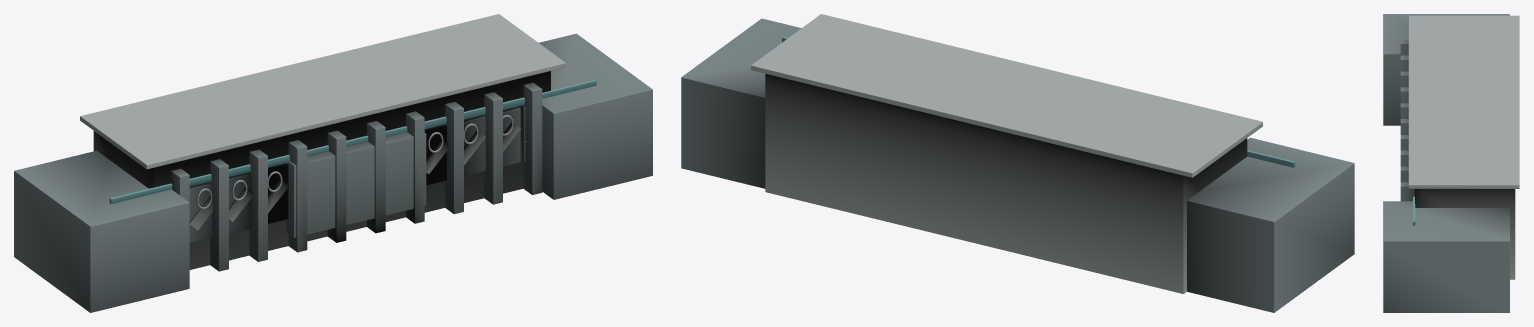
The model's file is temple-core-lod0.glb.
3 renders of one model, left to right at view 1: azimuth 30°, elevation 25°; view 2: azimuth 150°, elevation 25°; view 3: azimuth 270°, elevation 25°, orthographic. The views are drawn at different scales.
Visible parts, largest first — view 1: temple_coping.001, temple_west_wing.001, temple_east_wing.001, temple_main_mass.001, entrance_block.001, mosaic_band.001, facade_buttress_09_detail.001, facade_buttress_08_detail.001, facade_buttress_07_detail.001, facade_buttress_02_detail.001, facade_buttress_01_detail.001, facade_buttress_03_detail.001 (+10 smaller); view 2: temple_main_mass.001, temple_coping.001, temple_west_wing.001, temple_east_wing.001; view 3: temple_coping.001, temple_east_wing.001, temple_west_wing.001, temple_main_mass.001, facade_buttress_09_detail.001, facade_buttress_01_detail.001, facade_buttress_03_detail.001, facade_buttress_07_detail.001, facade_buttress_02_detail.001, facade_buttress_08_detail.001, facade_buttress_00_detail.001, facade_buttress_04_detail.001 (+2 smaller).
Boxes of the visible parts, bbox=[...] form: temple_coping.001: bbox=[80, 14, 565, 169]; temple_west_wing.001: bbox=[14, 150, 189, 312]; temple_east_wing.001: bbox=[539, 33, 652, 199]; temple_main_mass.001: bbox=[93, 71, 550, 269]; entrance_block.001: bbox=[286, 132, 426, 237]; mosaic_band.001: bbox=[109, 80, 596, 203]; facade_buttress_09_detail.001: bbox=[523, 82, 542, 194]; facade_buttress_08_detail.001: bbox=[484, 92, 502, 204]; facade_buttress_07_detail.001: bbox=[445, 102, 463, 214]; facade_buttress_02_detail.001: bbox=[249, 149, 267, 261]; facade_buttress_01_detail.001: bbox=[210, 159, 228, 271]; facade_buttress_03_detail.001: bbox=[288, 140, 307, 252]; temple_main_mass.001: bbox=[765, 74, 1247, 293]; temple_coping.001: bbox=[751, 14, 1262, 177]; temple_west_wing.001: bbox=[1187, 137, 1354, 312]; temple_east_wing.001: bbox=[681, 18, 801, 188]; temple_coping.001: bbox=[1408, 15, 1519, 188]; temple_east_wing.001: bbox=[1383, 201, 1509, 312]; temple_west_wing.001: bbox=[1383, 14, 1509, 125]; temple_main_mass.001: bbox=[1415, 189, 1515, 279]; facade_buttress_09_detail.001: bbox=[1400, 182, 1414, 201]; facade_buttress_01_detail.001: bbox=[1400, 55, 1408, 71]; facade_buttress_03_detail.001: bbox=[1400, 87, 1408, 103]; facade_buttress_07_detail.001: bbox=[1400, 150, 1408, 166]; facade_buttress_02_detail.001: bbox=[1400, 71, 1408, 87]; facade_buttress_08_detail.001: bbox=[1400, 166, 1408, 182]; facade_buttress_00_detail.001: bbox=[1400, 40, 1408, 55]; facade_buttress_04_detail.001: bbox=[1400, 103, 1408, 118].
Size of the model in its own units: 102 by 20.7 by 25.8.
